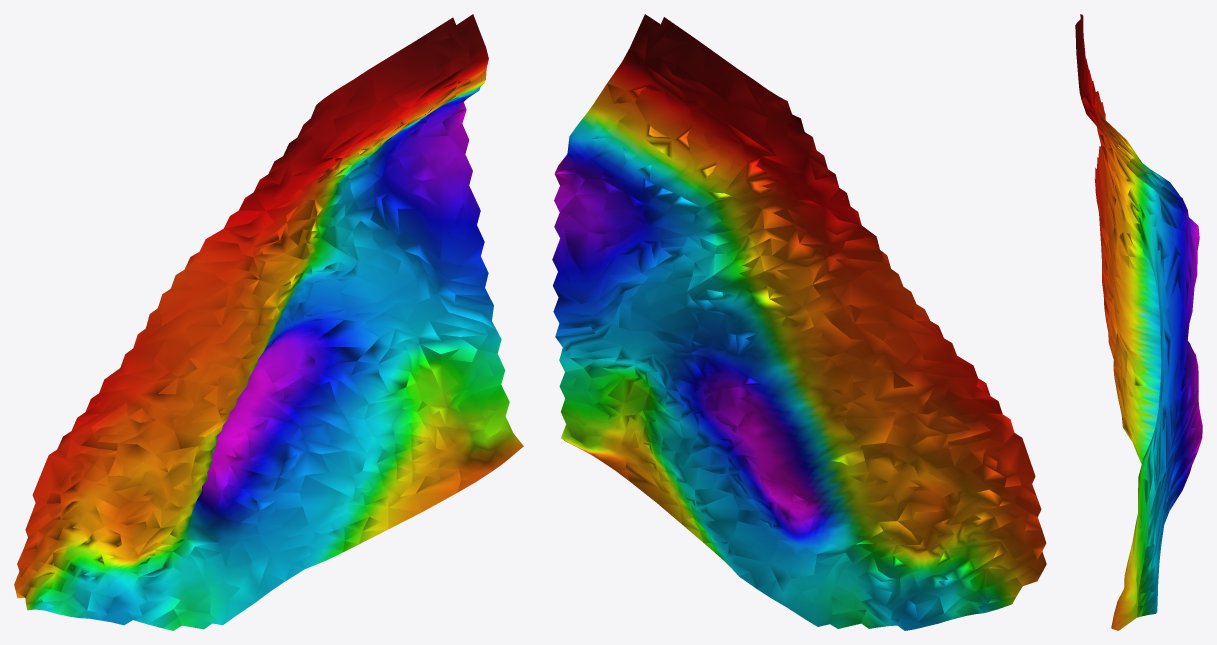
File: Topo_Santoniano_cubo.glb
The picture shows the model from 3 angles, left to right: view 1: azimuth 30°, elevation 25°; view 2: azimuth 150°, elevation 25°; view 3: azimuth 270°, elevation 25°; orthographic projection. The views are drawn at different scales.
Visible parts, largest first — view 1: Surface; view 2: Surface; view 3: Surface.
Part boxes in pixels (x1=…): Surface: x1=14, y1=14, x2=523, y2=630; Surface: x1=552, y1=14, x2=1046, y2=630; Surface: x1=1075, y1=14, x2=1202, y2=630.
Size of the model in its own units: 141595 by 153606 by 25440.
Materials: 1 (1 with a texture image).
